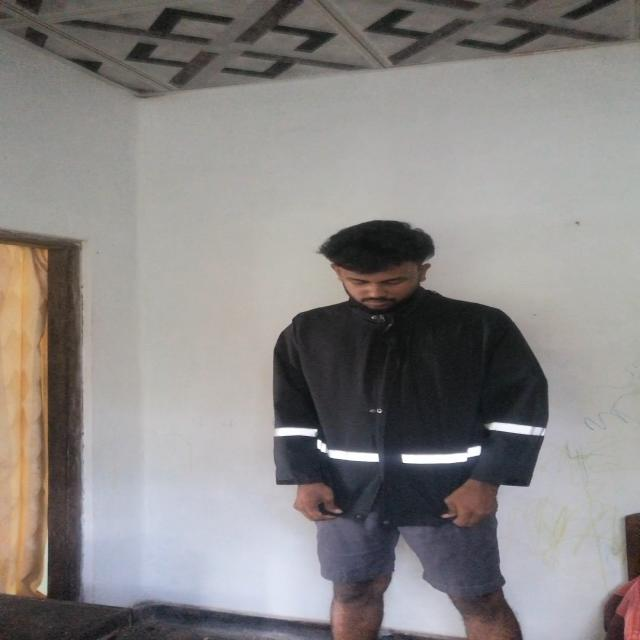Jacket_Wearer: (265, 287, 565, 522)
